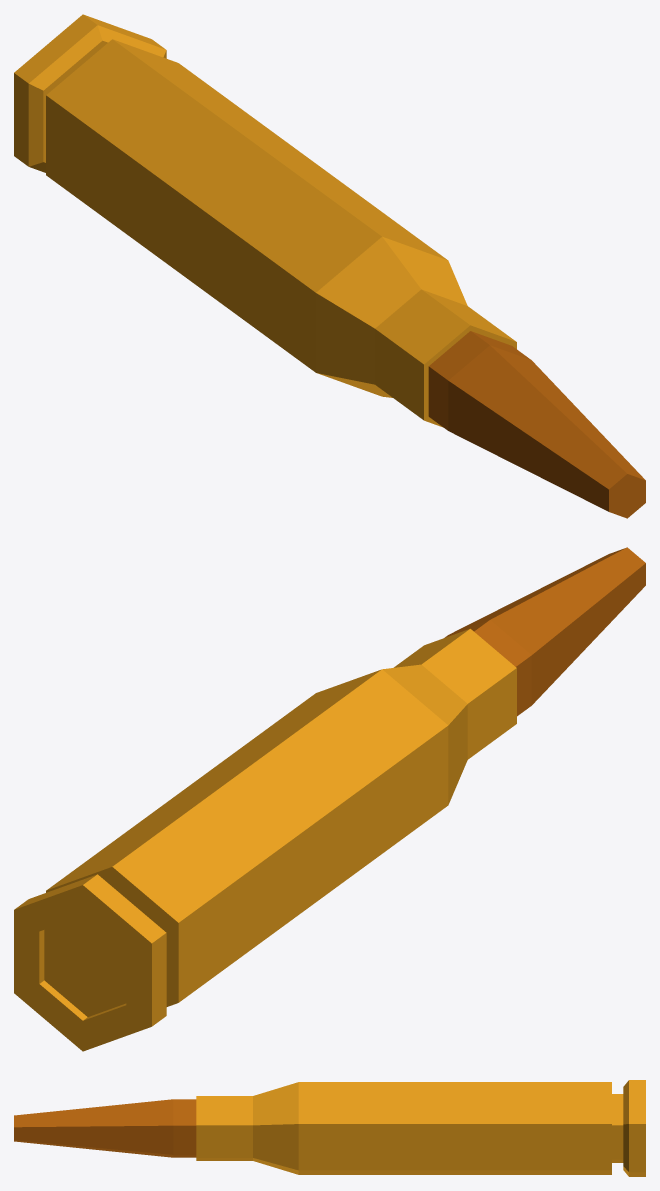
The model's file is Bullet_Recon_A.fbx.
3 views of the same model, one above another, from view 1: azimuth 30°, elevation 25°; view 2: azimuth 150°, elevation 25°; view 3: azimuth 270°, elevation 25° (orthographic). The views are drawn at different scales.
Visible parts, largest first — view 1: Bullet_Recon_A, Bullet_Recon_A_Part; view 2: Bullet_Recon_A, Bullet_Recon_A_Part; view 3: Bullet_Recon_A, Bullet_Recon_A_Part.
Part boxes in pixels (x1,y1,x2,y2): Bullet_Recon_A: (14, 14, 516, 427); Bullet_Recon_A_Part: (428, 331, 645, 518); Bullet_Recon_A: (14, 628, 516, 1051); Bullet_Recon_A_Part: (444, 547, 645, 716); Bullet_Recon_A: (196, 1080, 645, 1176); Bullet_Recon_A_Part: (14, 1099, 196, 1157).
Bounding box in the file's own units: 0.0183 × 0.0211 × 0.1249.
